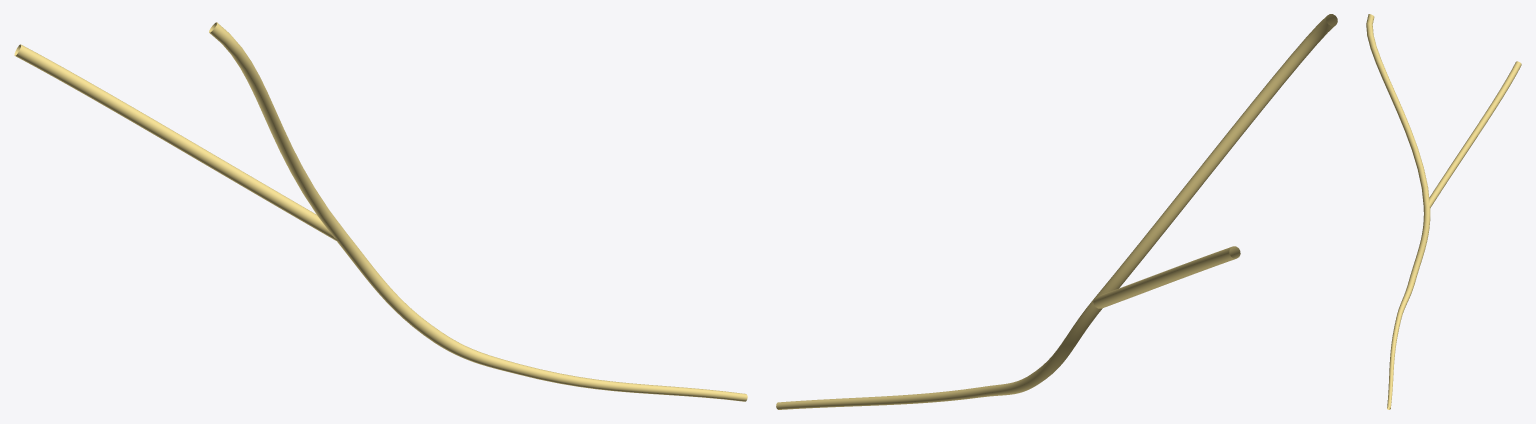
3 renders of one model, left to right at view 1: azimuth 30°, elevation 25°; view 2: azimuth 150°, elevation 25°; view 3: azimuth 270°, elevation 25°, orthographic. The views are drawn at different scales.
Parts seen in each view (by area): view 1: ZA_aaaa5454cc870728; view 2: ZA_aaaa5454cc870728; view 3: ZA_aaaa5454cc870728.
Part boxes in pixels (bbox=[...]): ZA_aaaa5454cc870728: bbox=[14, 22, 747, 401]; ZA_aaaa5454cc870728: bbox=[776, 14, 1337, 409]; ZA_aaaa5454cc870728: bbox=[1366, 14, 1521, 409].
Size of the model in its own units: 0.0526 by 0.0438 by 0.0235.
